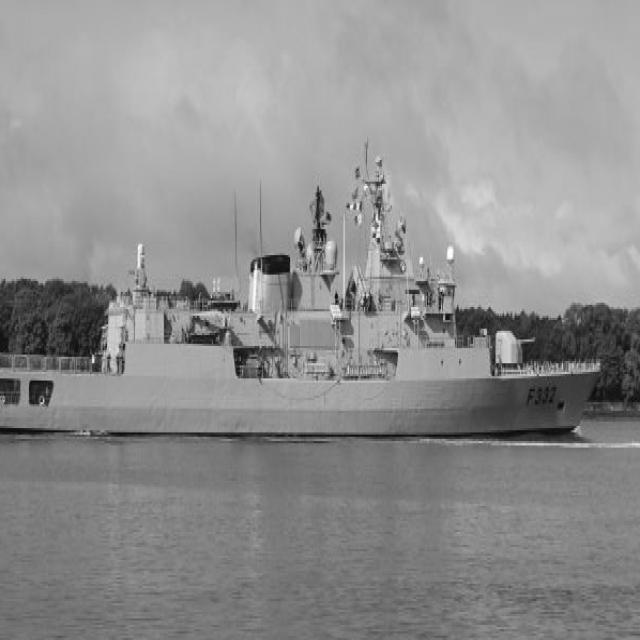Fragata: (1, 137, 604, 444)
